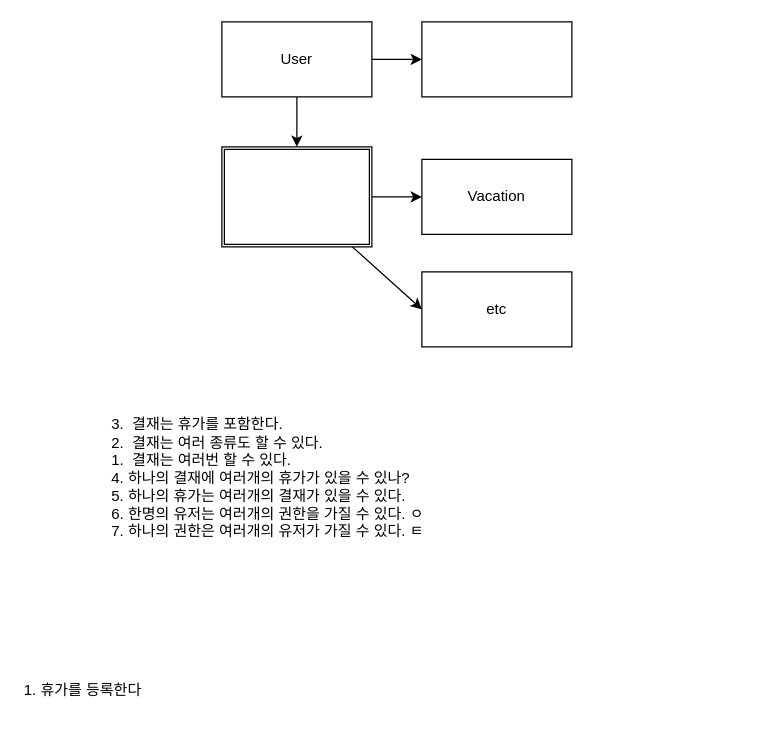
Some shapes in this 768 by 731 pixel diagram are drawn without their labels. Each missing label, with the centre of its shape:
"Approval" belongs at [296,196].
"Role" belongs at [496,59].
